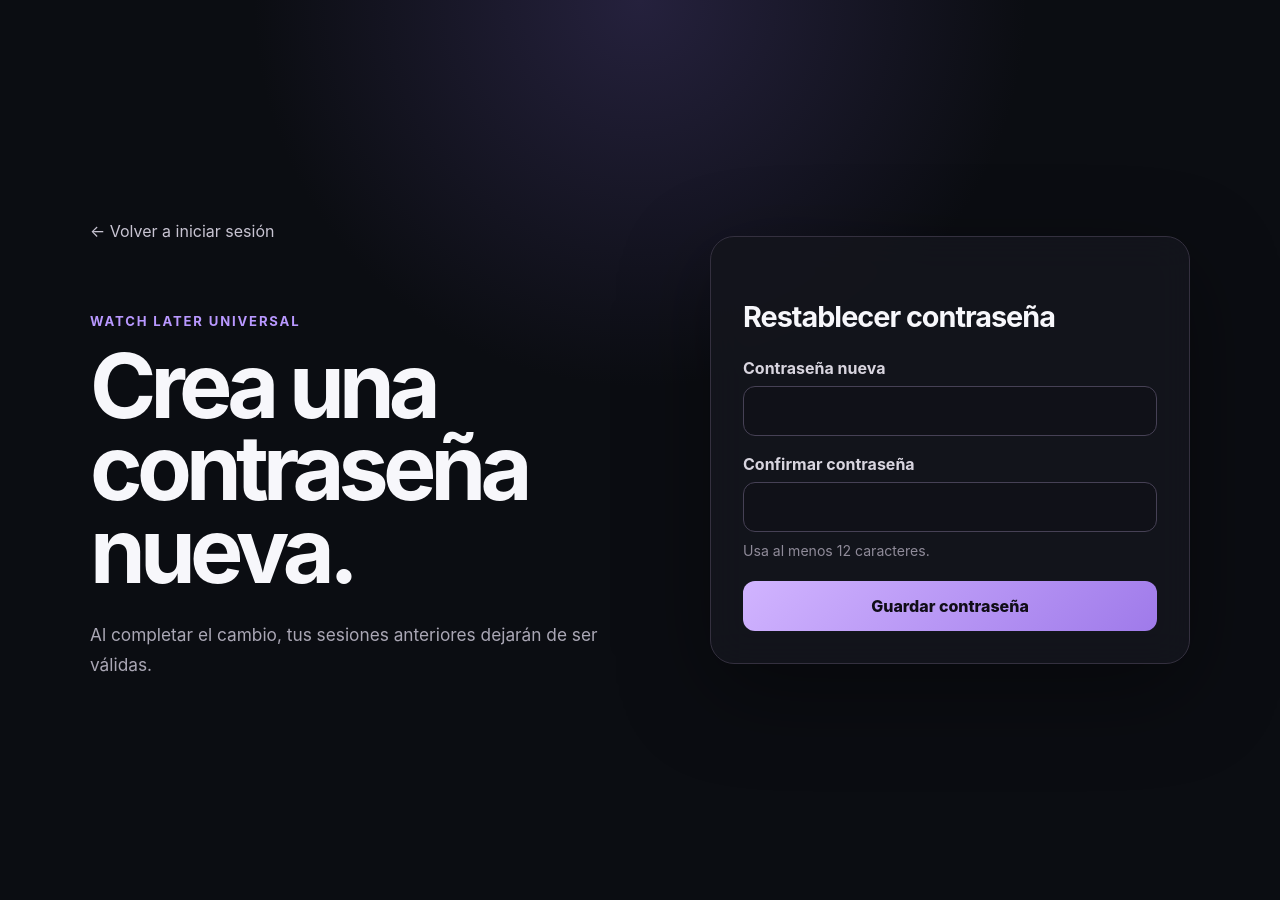
Test: Password reset pages › rejects passwords that do not match
The width and height of the screenshot is (1280, 900).
Type "new-safe-learning-password" into the password field labelled "Contraseña nueva" at [950, 411], box [743,386,1157,436]
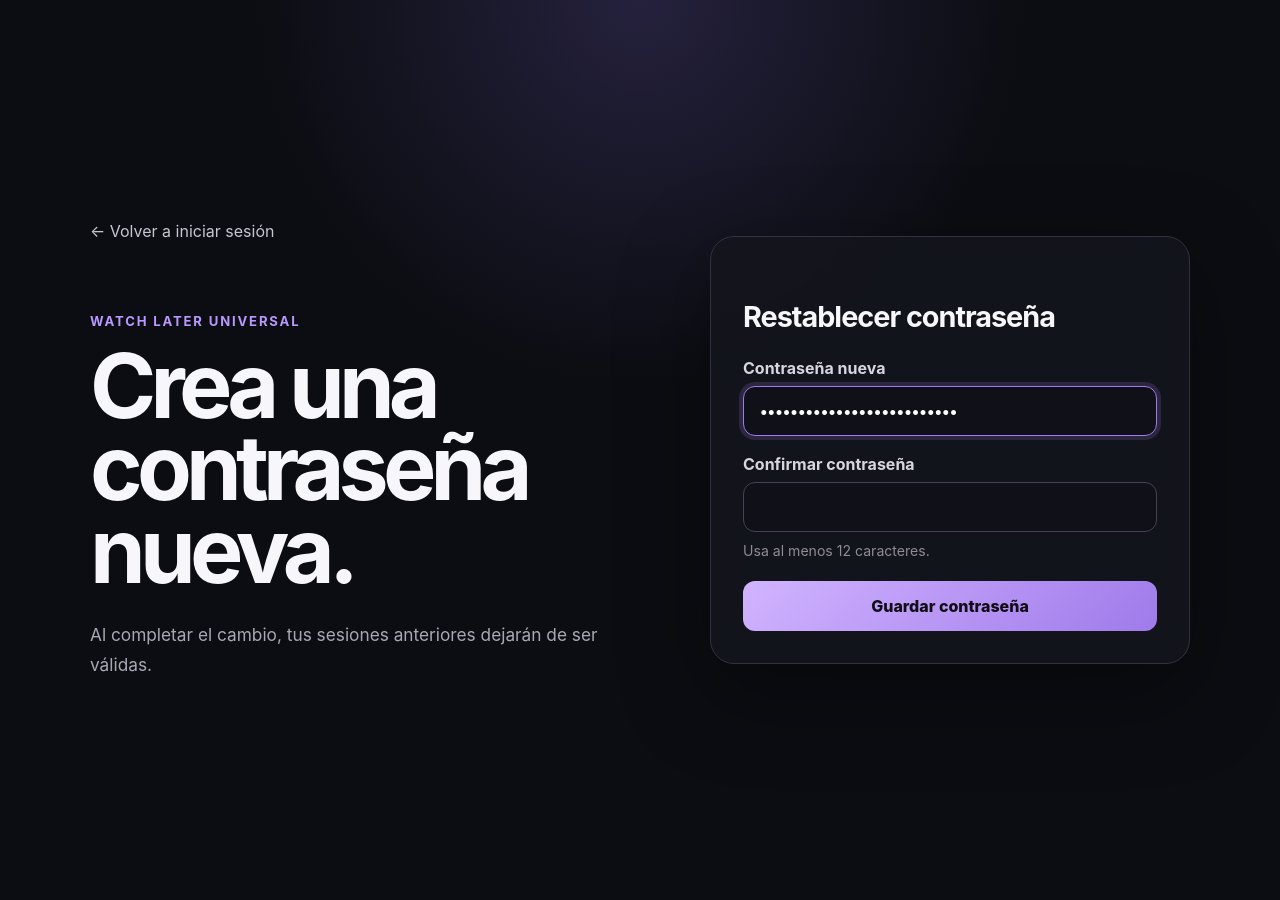
Type "different-safe-password" into the password field labelled "Confirmar contraseña" at [950, 507], box [743,482,1157,532]
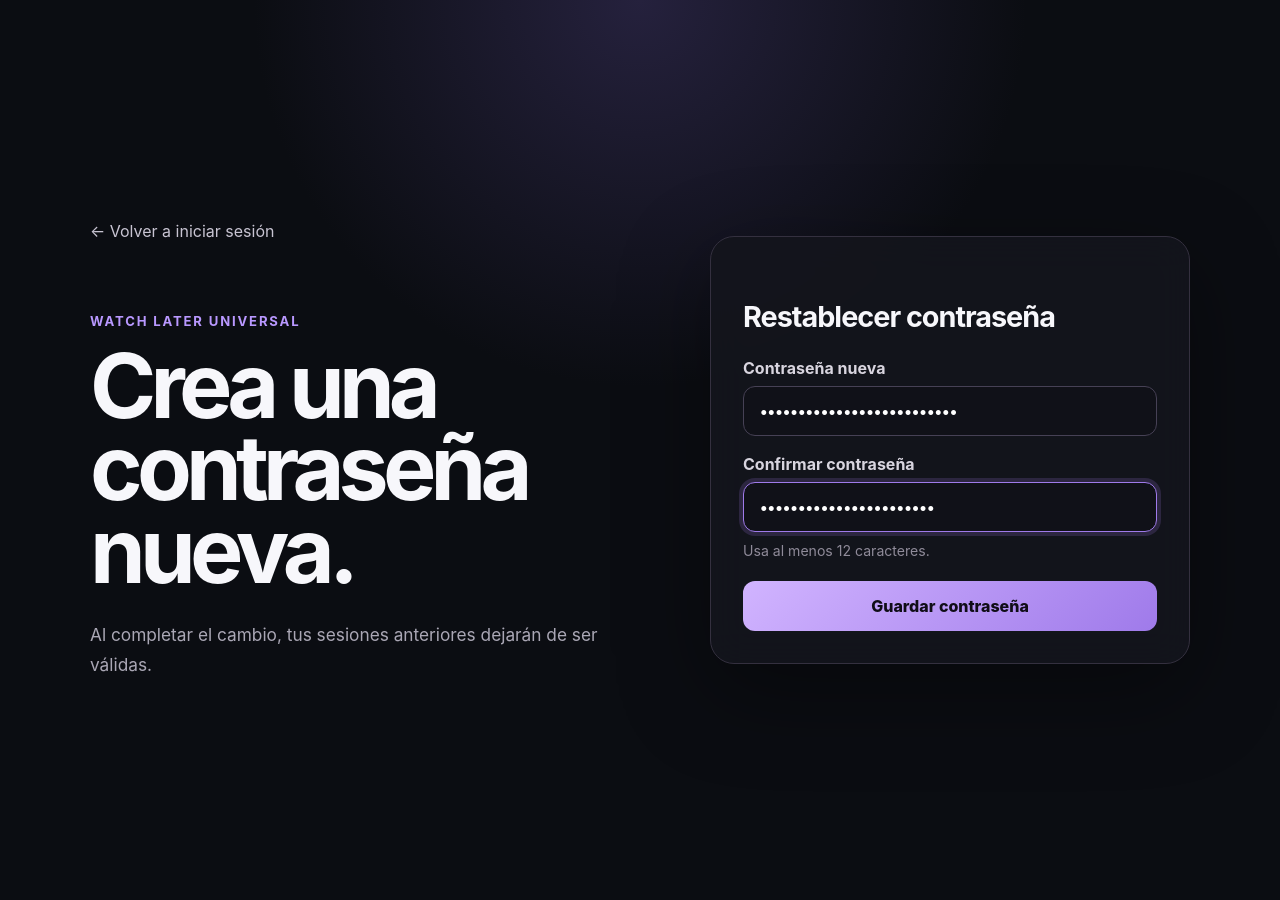
Click the button "Guardar contraseña" at [950, 606], box [743,581,1157,631]
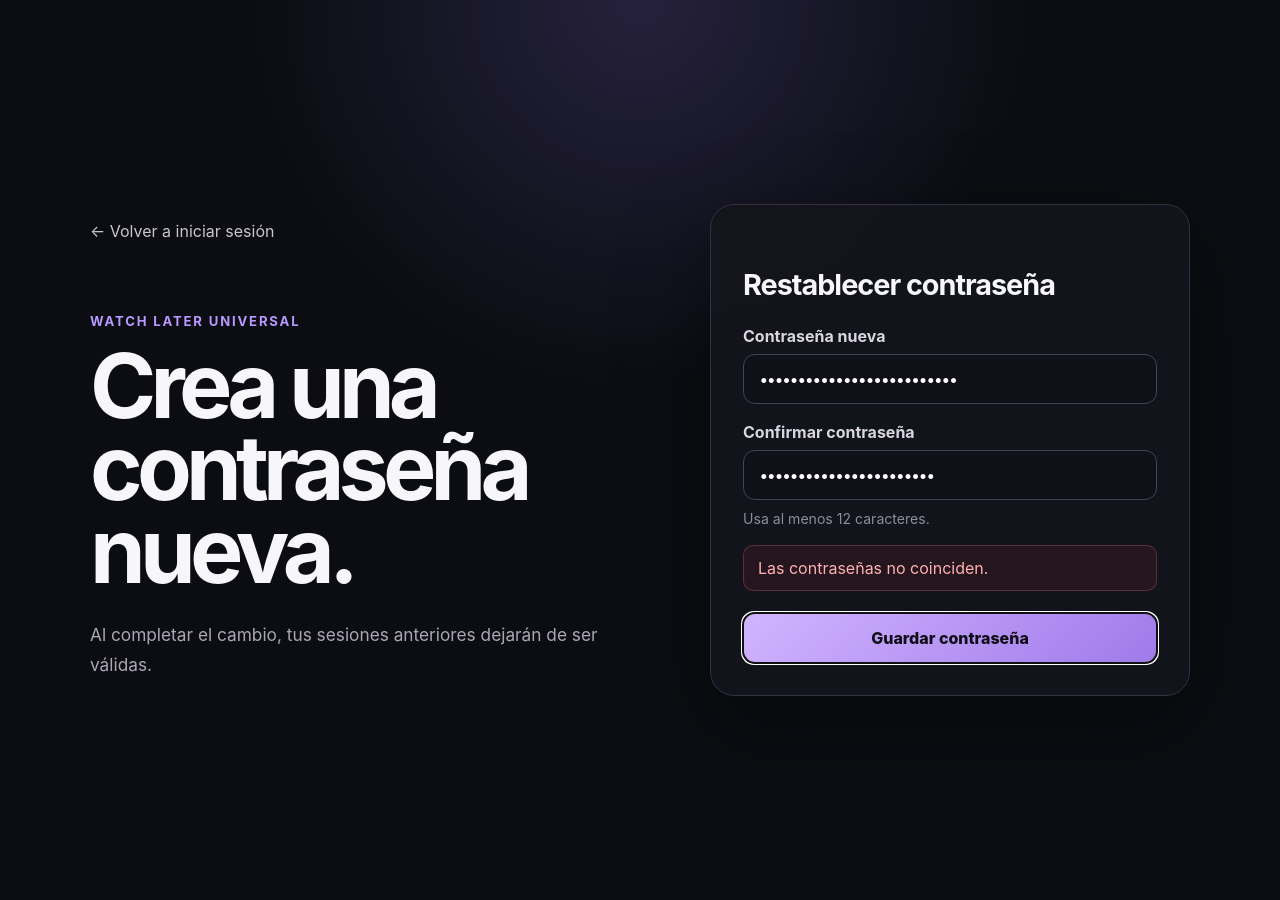
Expected: the message reads "Las contraseñas no coinciden.", [758,558,988,578]
